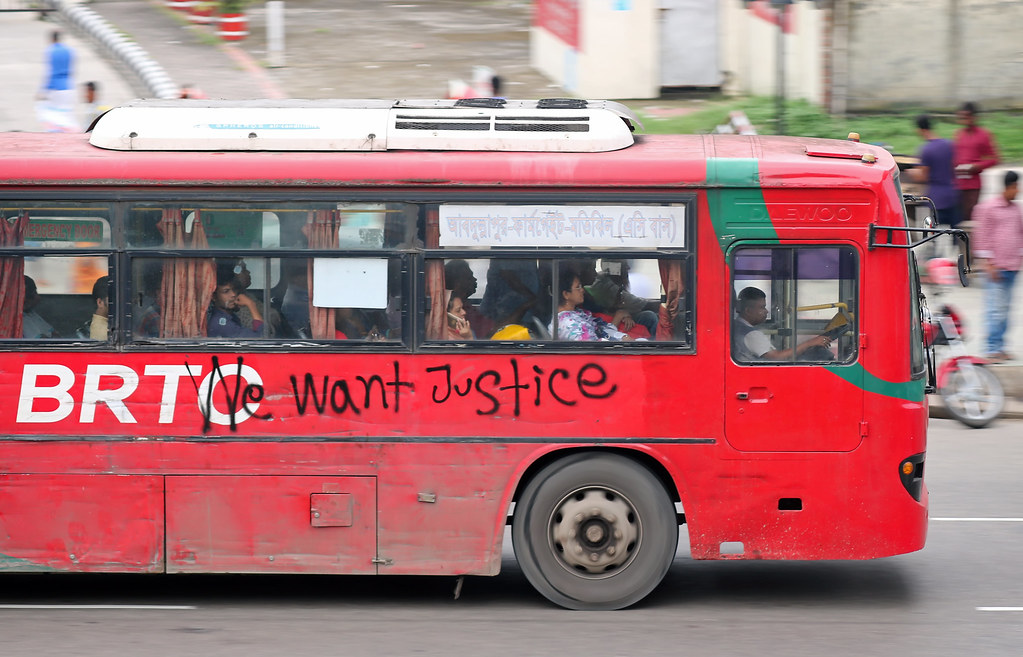bus: (3, 100, 936, 627)
